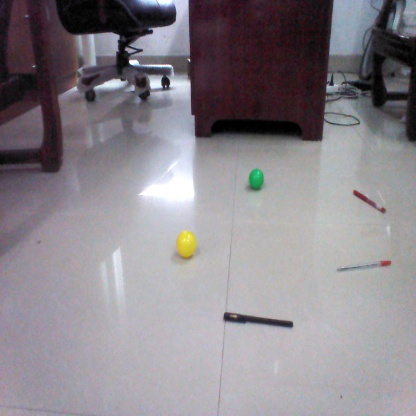ball: (176, 227, 199, 260), (247, 166, 268, 189)
pen: (222, 307, 296, 328), (352, 187, 389, 215), (337, 259, 393, 274)
